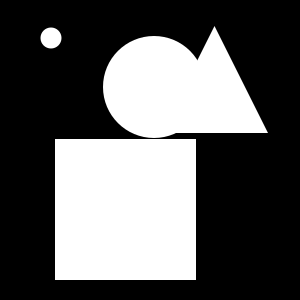circle: (55, 139, 196, 280)
rectangle: (103, 36, 205, 138), (40, 28, 62, 49)
triangle: (161, 26, 268, 133), (129, 53, 184, 108)
